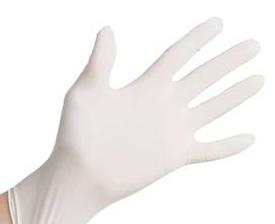gloves: (6, 16, 264, 224)
